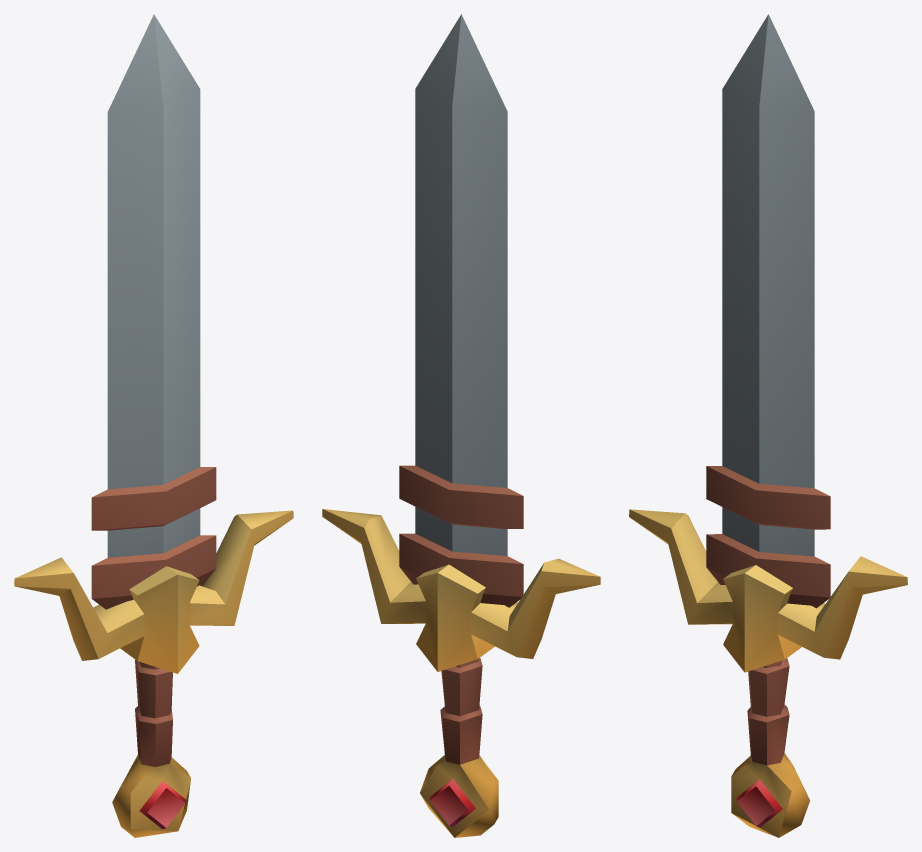
Rendered from sword_2handed_color.glb.
3 views of the same model, side by side, from view 1: azimuth 30°, elevation 25°; view 2: azimuth 150°, elevation 25°; view 3: azimuth 330°, elevation 25° (orthographic).
Size of the model in its own units: 0.8391 by 2.36 by 0.248.
1 material, 1 textured.
